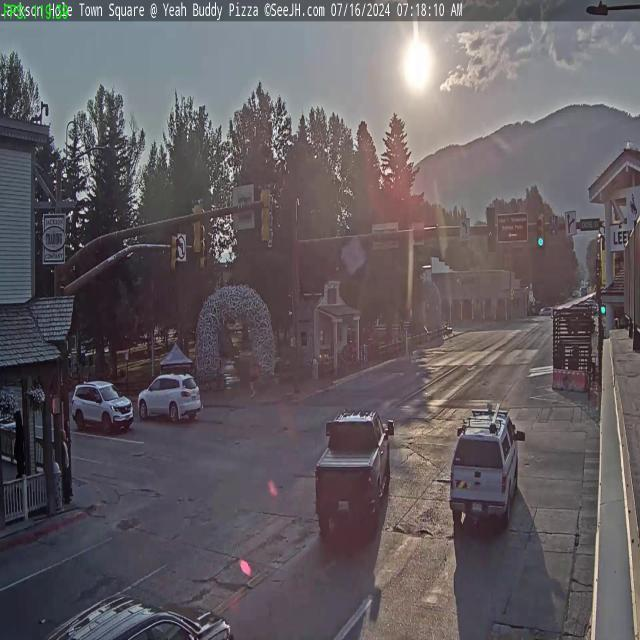pickup: (315, 405, 393, 527)
suv: (137, 371, 201, 426), (70, 380, 134, 434)
traffic light: (260, 184, 273, 244), (190, 199, 203, 254), (486, 207, 496, 252), (171, 230, 178, 280), (536, 214, 545, 248)
truck: (442, 406, 522, 524)
